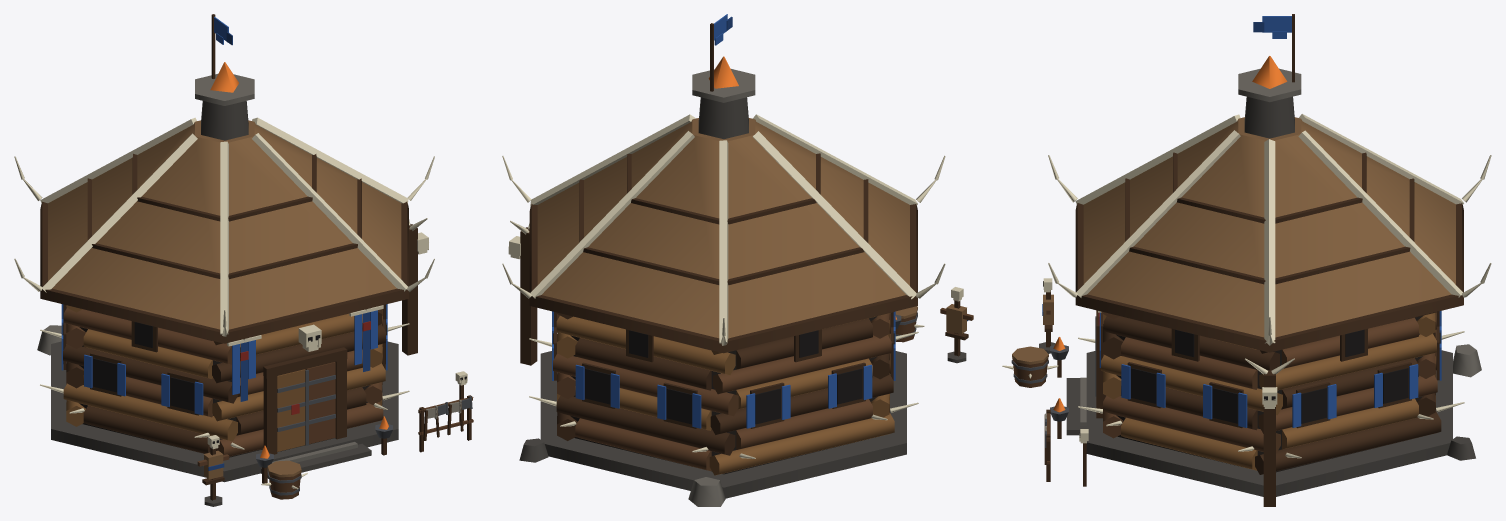
File: orc-barracks.glb
The picture shows the model from 3 angles, left to right: view 1: azimuth 30°, elevation 25°; view 2: azimuth 150°, elevation 25°; view 3: azimuth 270°, elevation 25°; orthographic projection. The views are drawn at different scales.
Visible parts, largest first — view 1: orc-barracks; view 2: orc-barracks; view 3: orc-barracks.
Boxes of the visible parts, x1,y1,x2,y2 form: orc-barracks: (14, 14, 473, 506); orc-barracks: (502, 14, 973, 506); orc-barracks: (1002, 14, 1491, 506).
Size of the model in its own units: 14.11 by 12 by 13.49.
1 material, 1 textured.
